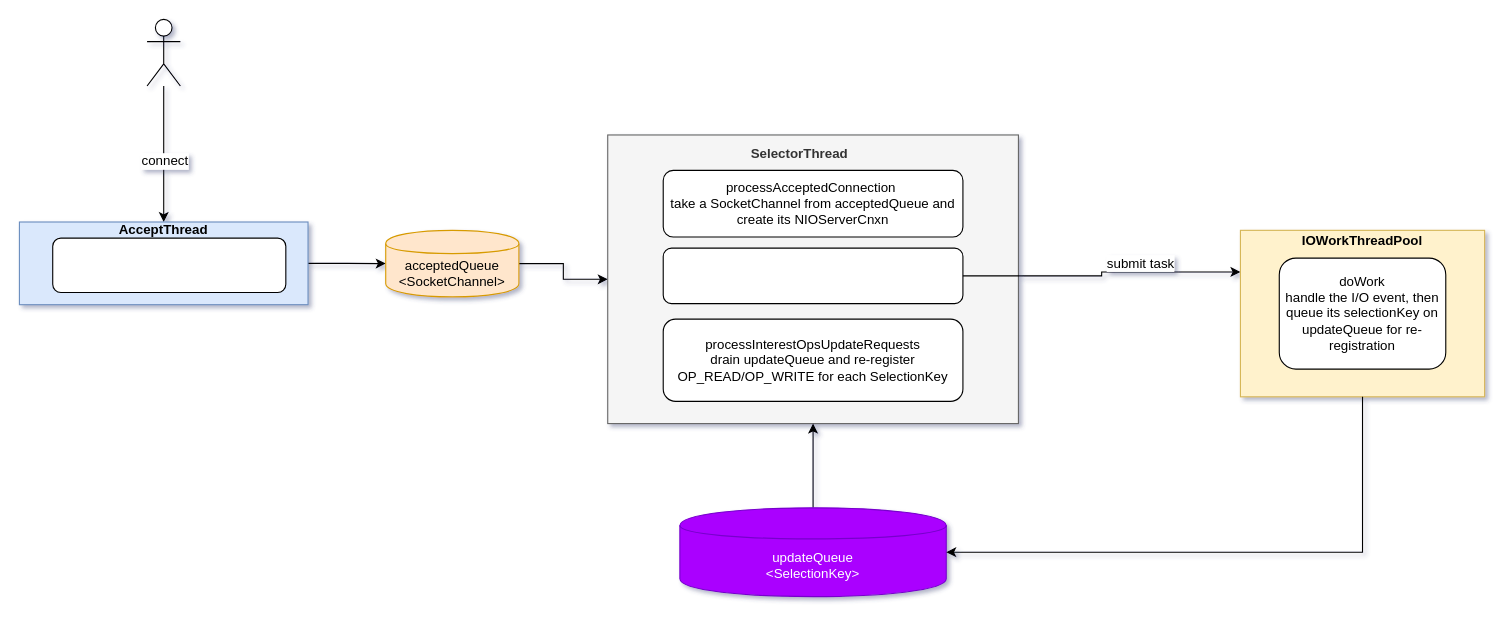
Image size: 1511x623. Some labels were removed from this diagram. Here are the shapes that lost their labels. From the top down, the box of each, then its label:
(146, 18, 180, 86): Actor
(52, 237, 286, 292): doAccept put the accepted SocketChannel into acceptedQueue
(662, 247, 963, 304): select handle all NIOServerCnxn I/O events; each becomes an IOWorkRequest task
